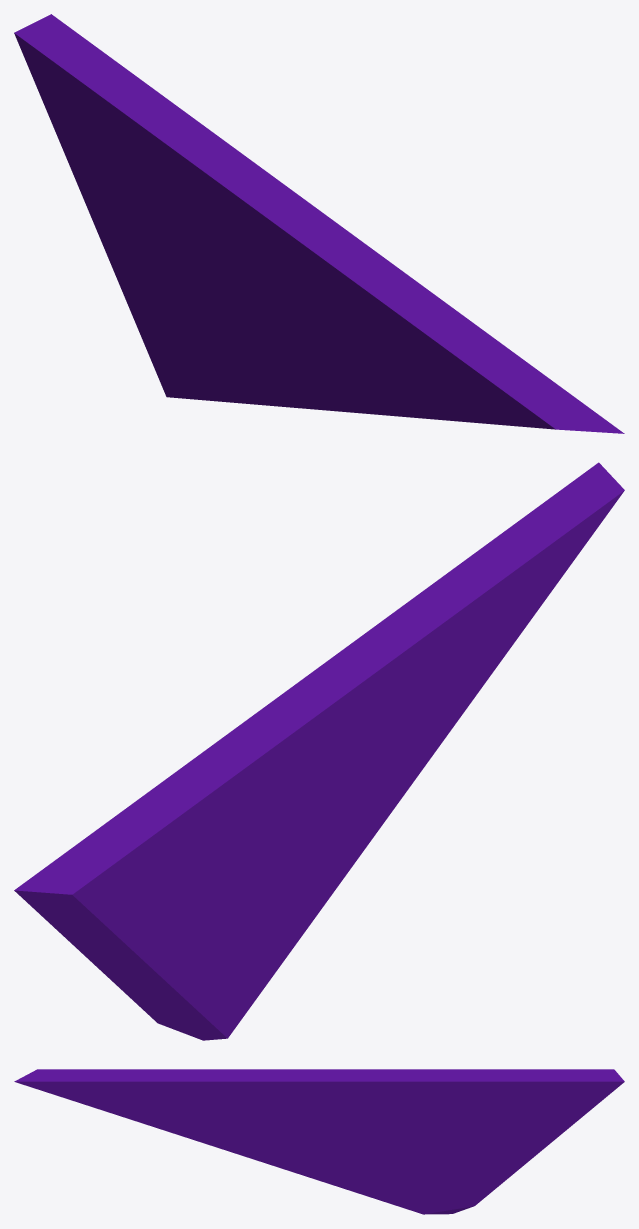
File: Band_6_2_chunks.fbx
3 views of the same model, one above another, from view 1: azimuth 30°, elevation 25°; view 2: azimuth 150°, elevation 25°; view 3: azimuth 270°, elevation 25° (orthographic). The views are drawn at different scales.
Visible parts, largest first — view 1: Band_6_2_0; view 2: Band_6_2_0; view 3: Band_6_2_0.
Boxes of the visible parts, x1,y1,x2,y2 form: Band_6_2_0: [14, 14, 624, 433]; Band_6_2_0: [14, 462, 624, 1040]; Band_6_2_0: [14, 1069, 624, 1214].
Size of the model in its own units: 8.55 by 44.94 by 180.
